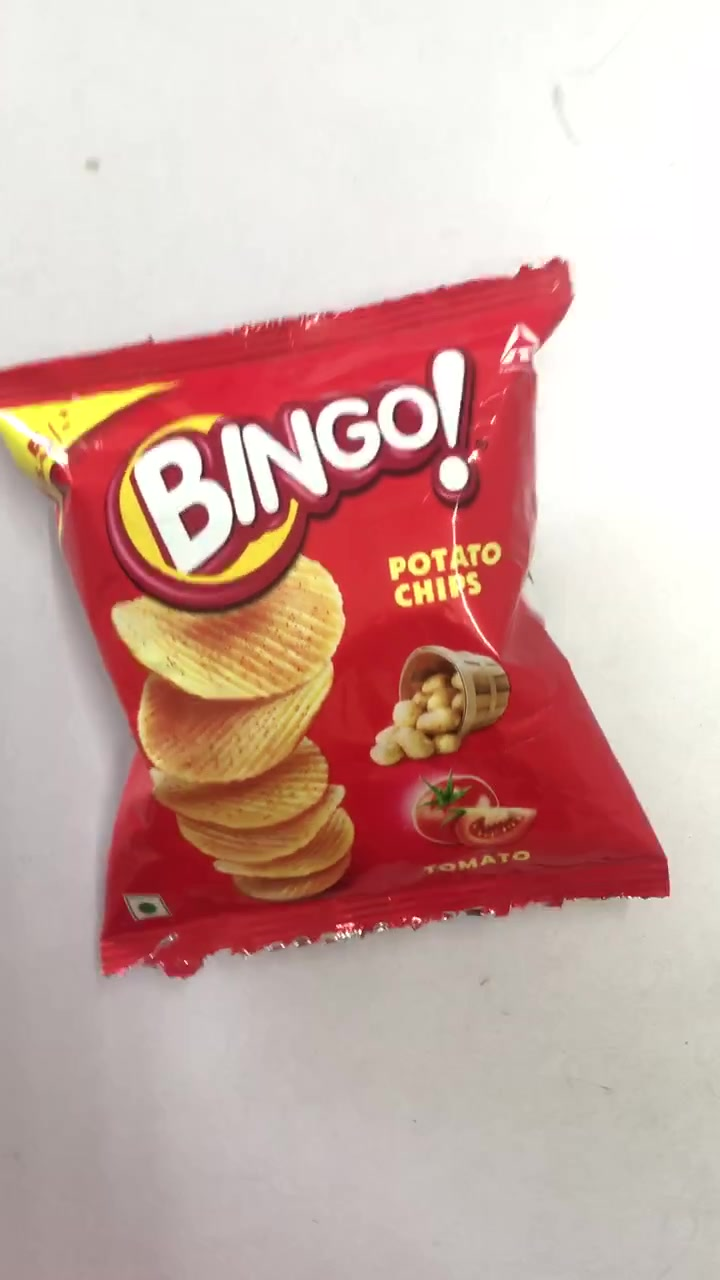Bingo: (24, 381, 606, 892)
